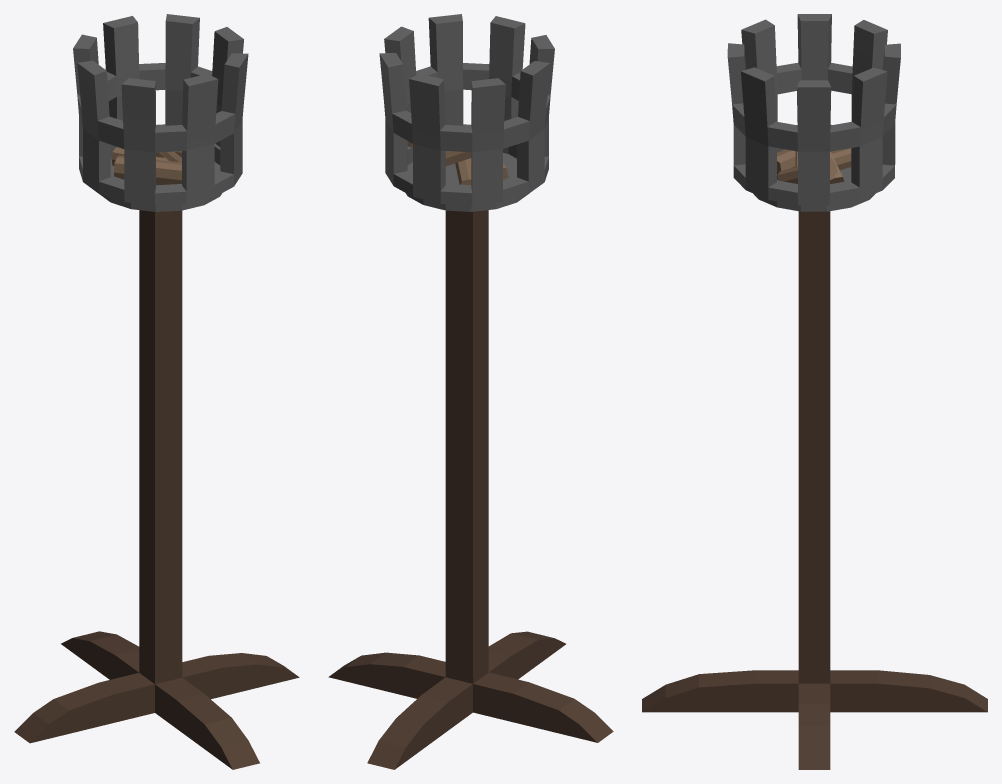
Rendered from SM_Torch.fbx.
3 views of the same model, side by side, from view 1: azimuth 30°, elevation 25°; view 2: azimuth 150°, elevation 25°; view 3: azimuth 270°, elevation 25° (orthographic).
Parts seen in each view (by area): view 1: Cylinder.036; view 2: Cylinder.036; view 3: Cylinder.036.
Boxes of the visible parts, box(x1,y1,x2,y2) form: Cylinder.036: box(14, 14, 299, 769); Cylinder.036: box(328, 14, 613, 769); Cylinder.036: box(642, 14, 987, 769).
Size of the model in its own units: 66.93 by 155 by 73.97.
